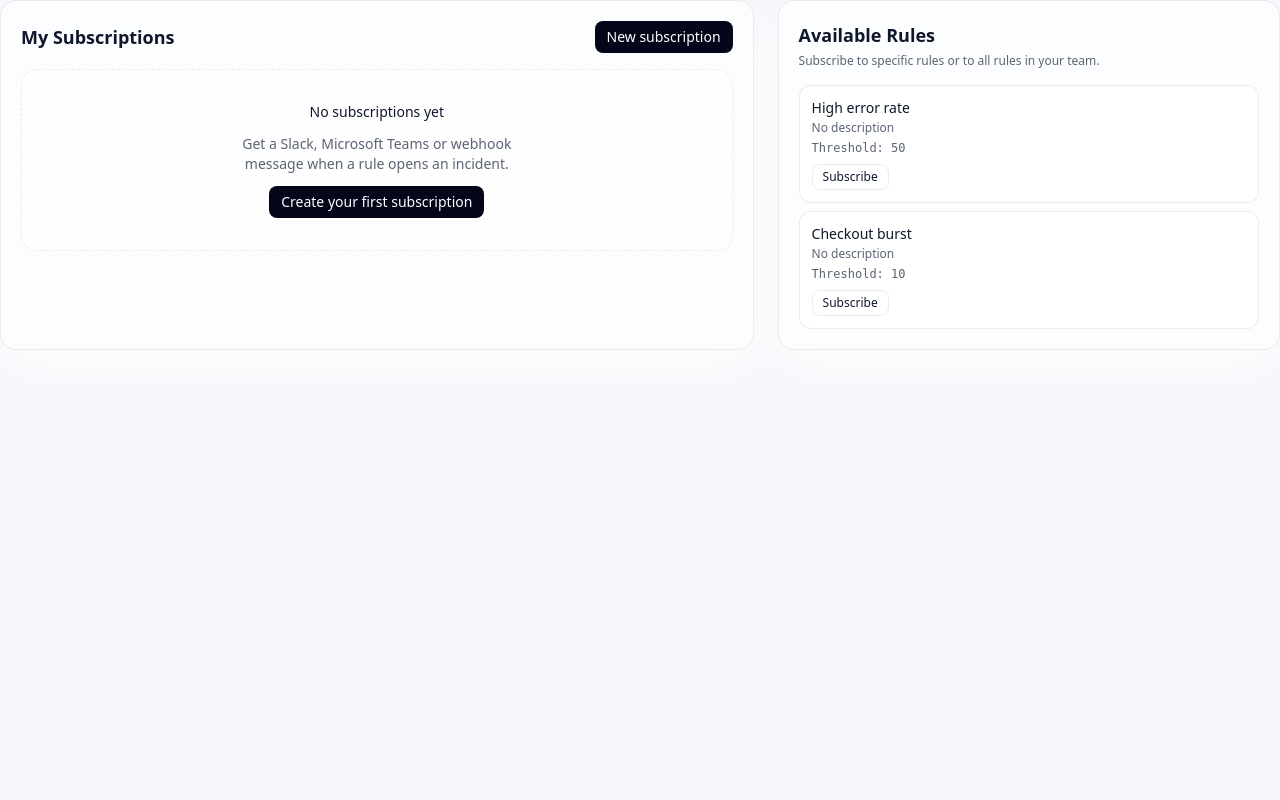
it: create form › blocks a URL with a scheme other than http(s) before any request
This screenshot has width=1280, height=800.
Click the button "New subscription": click(664, 37) [594,21,733,53]
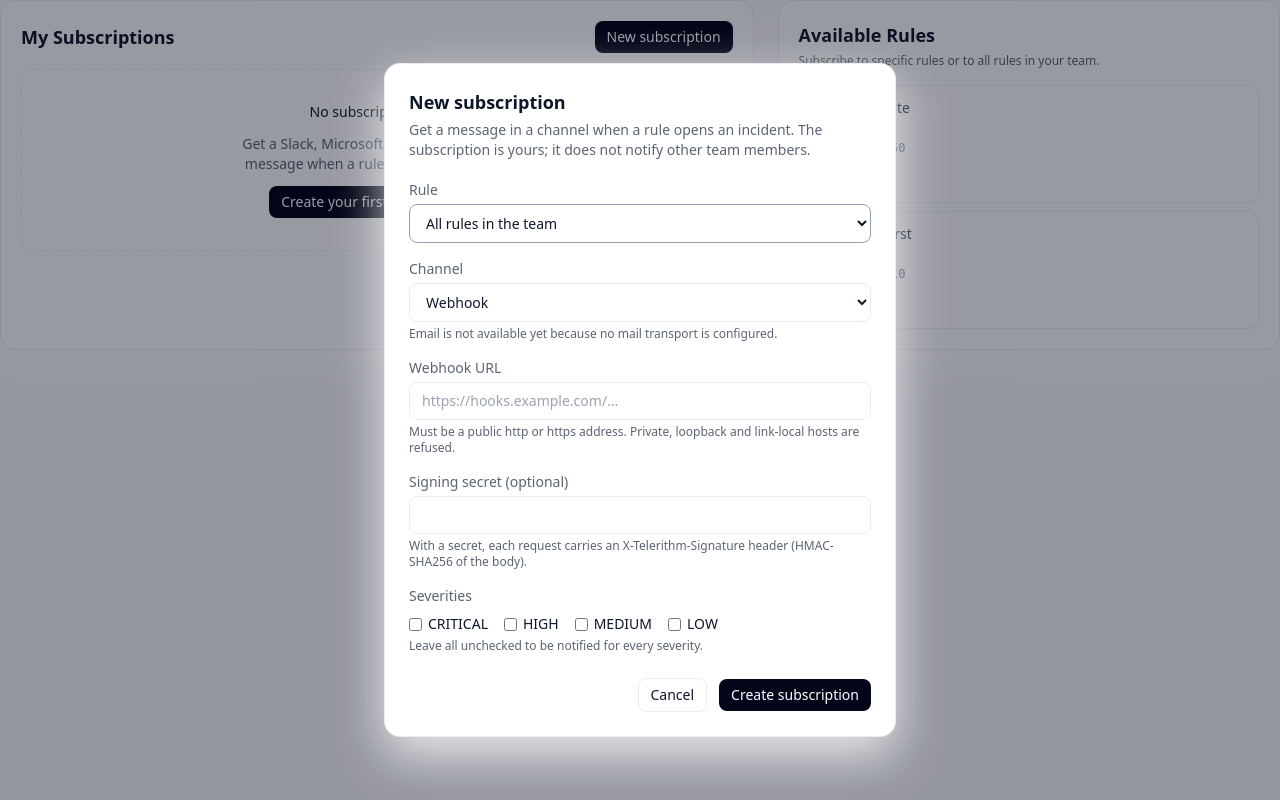
In the field labelled "Webhook URL": (640, 401) [409,382,871,420], type "ftp://hooks.example.com/x"
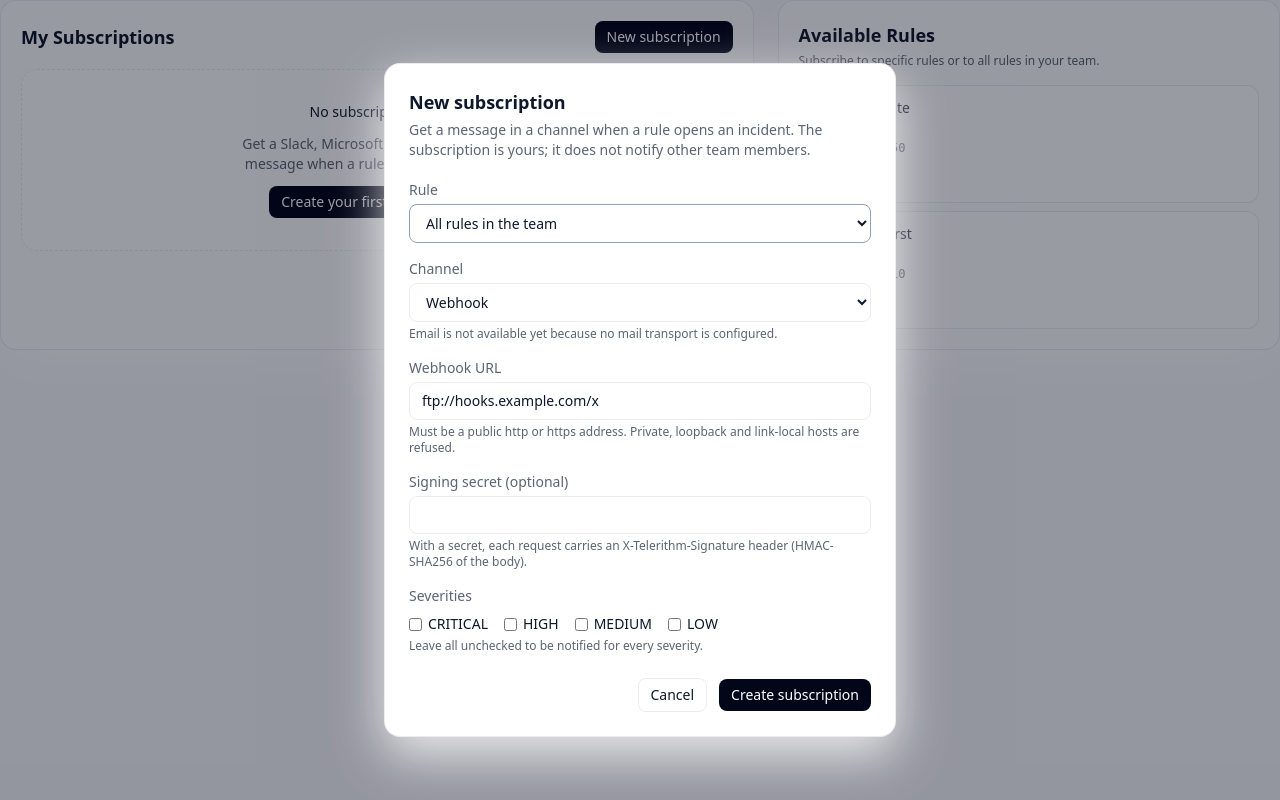
Click the button "Create subscription": click(795, 695) [719,679,871,711]
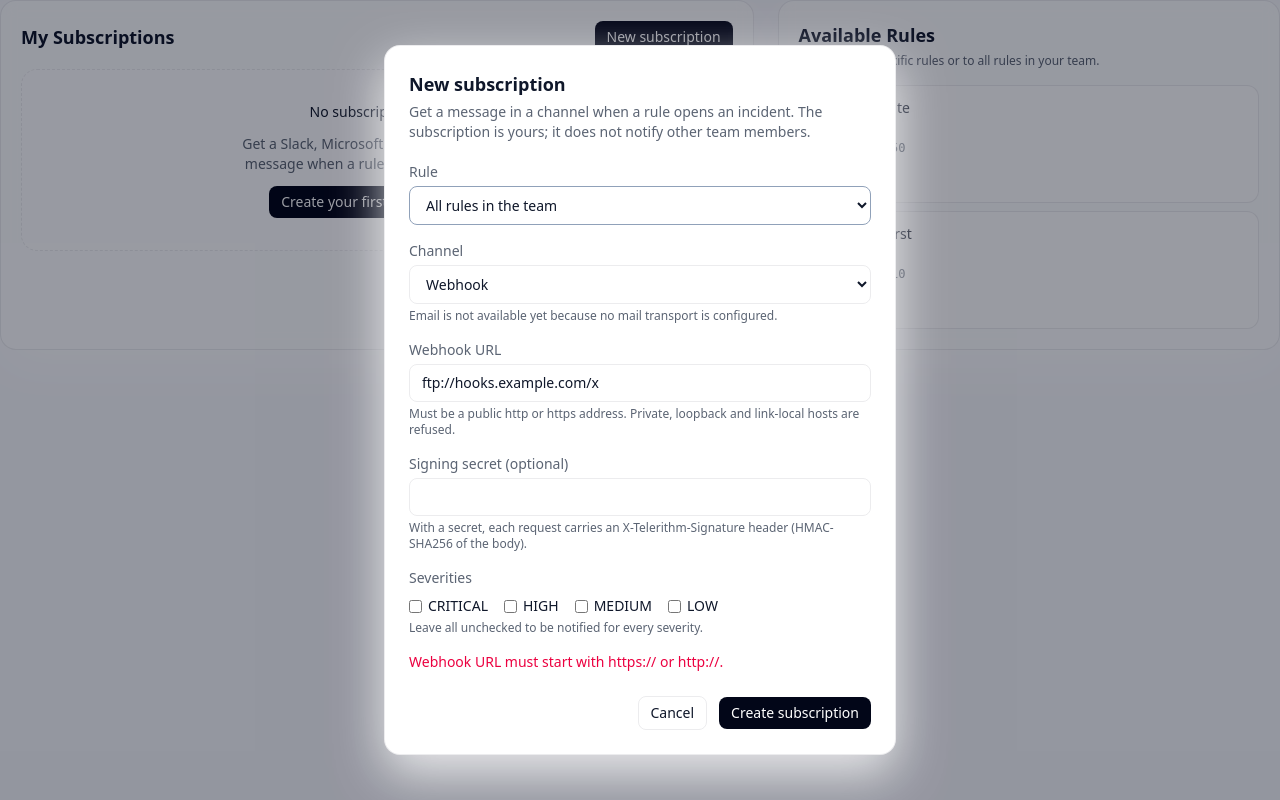
Expected: the message shows "must start with https:// or http://", [409,652,723,671]
